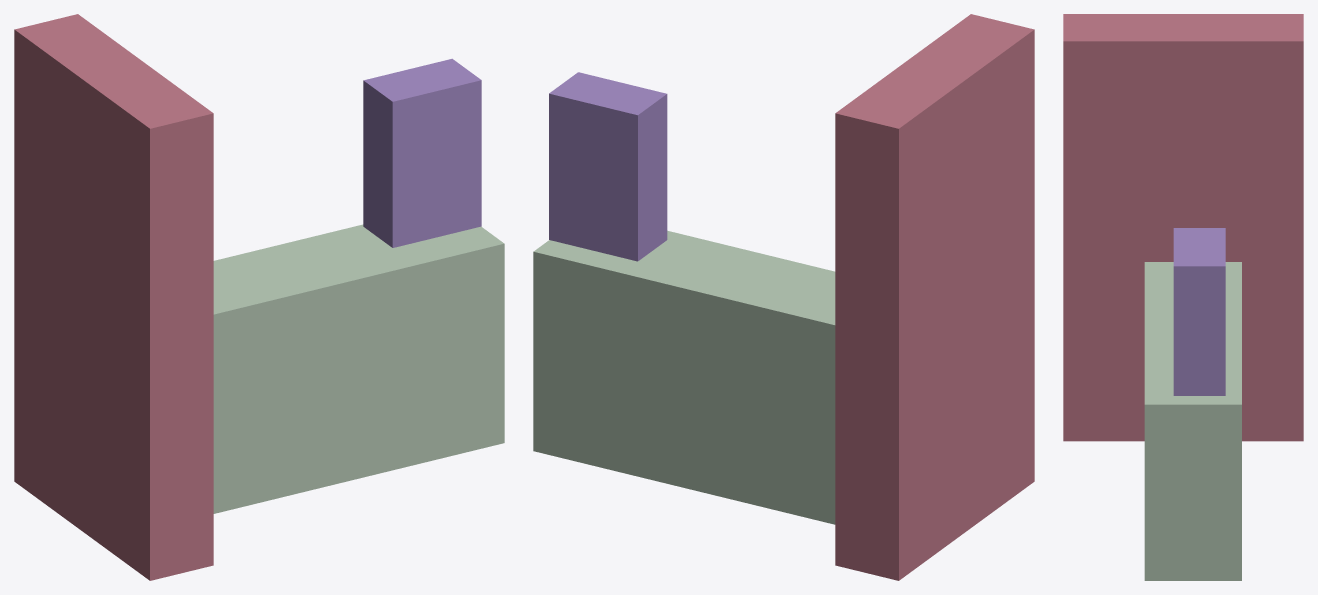
3 views of the same model, side by side, from view 1: azimuth 30°, elevation 25°; view 2: azimuth 150°, elevation 25°; view 3: azimuth 270°, elevation 25° (orthographic). The views are drawn at different scales.
Visible parts, largest first — view 1: world; view 2: world; view 3: world.
Part boxes in pixels (x1=…): world: x1=14, y1=14, x2=504, y2=580; world: x1=533, y1=14, x2=1034, y2=580; world: x1=1063, y1=14, x2=1303, y2=580.
Size of the model in its own units: 6.3 by 6.8 by 3.7.
